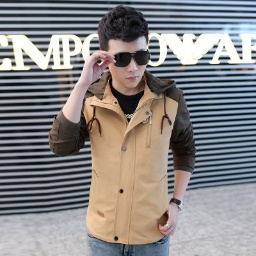face: (98, 5, 149, 87)
